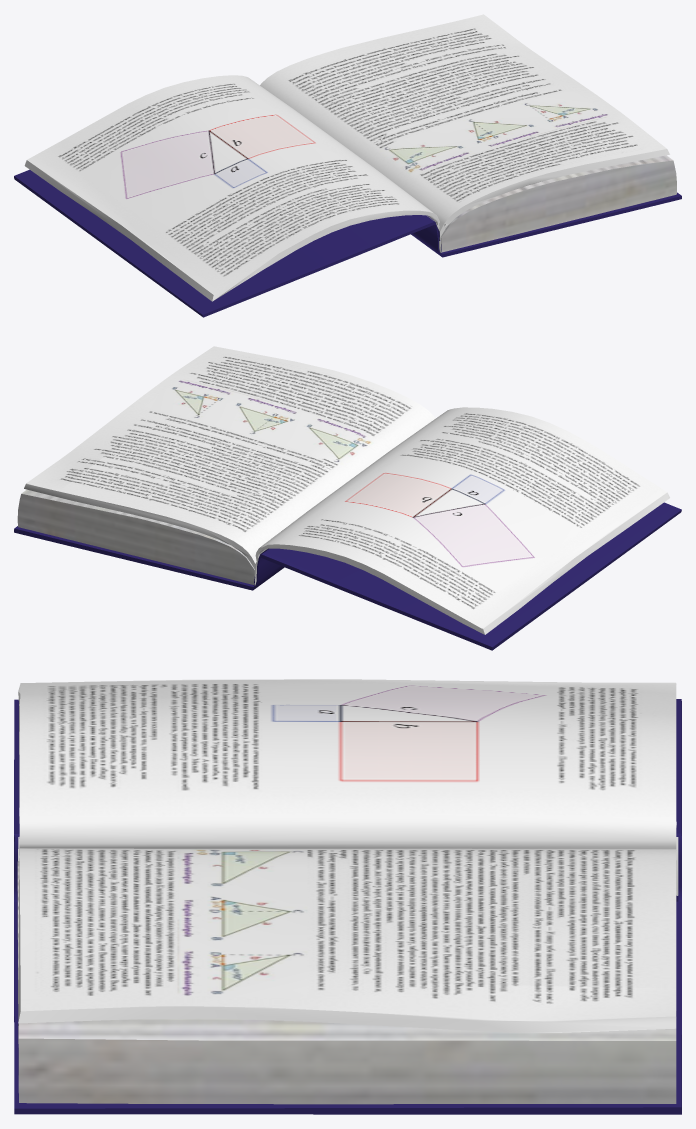
The model's file is Book.FBX.
3 views of the same model, one above another, from view 1: azimuth 30°, elevation 25°; view 2: azimuth 150°, elevation 25°; view 3: azimuth 270°, elevation 25° (orthographic). The views are drawn at different scales.
Visible parts, largest first — view 1: Book; view 2: Book; view 3: Book.
Part boxes in pixels (x1,y1,x2,y2): Book: (14, 14, 681, 317); Book: (14, 346, 681, 650); Book: (14, 679, 681, 1114).
Size of the model in its own units: 41.42 by 5.03 by 28.32.
Materials: 1 (1 with a texture image).
